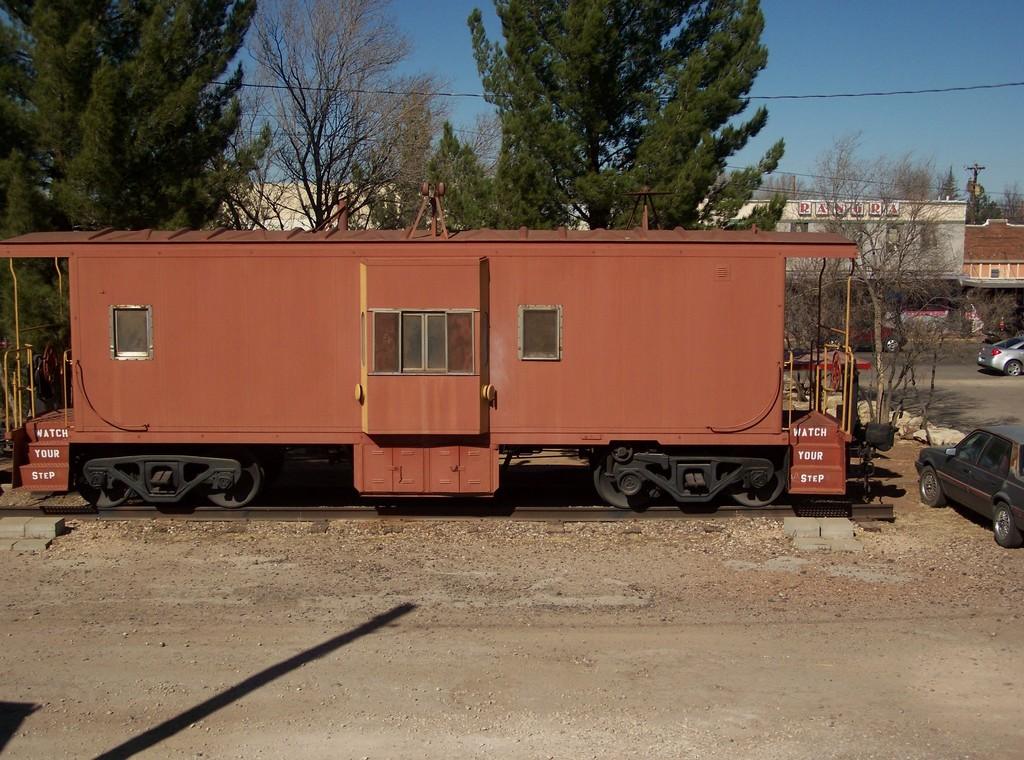Car: (912, 418, 1023, 548), (815, 321, 906, 351), (977, 335, 1023, 376)
